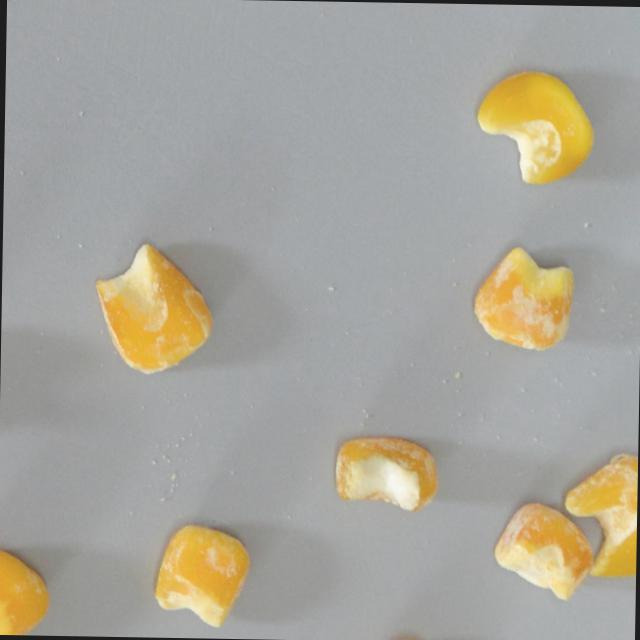no_canjicado: (476, 70, 595, 186), (0, 546, 51, 635)
pelicula: (94, 241, 211, 374), (471, 246, 574, 350), (152, 522, 250, 629), (491, 501, 593, 601), (565, 454, 638, 579), (333, 435, 438, 513)
